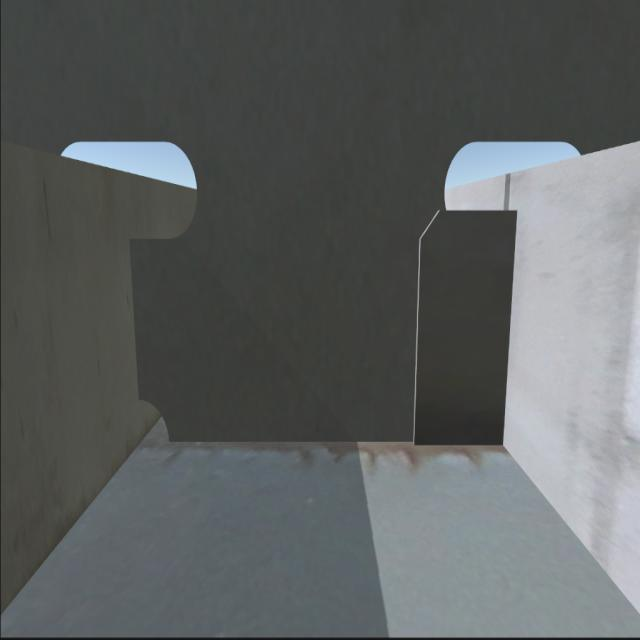fillet_hole: (134, 401, 172, 450)
fillet_yong_jeop_jang: (176, 436, 508, 452)
longi_yong_jeop_jang: (507, 218, 522, 449), (128, 247, 148, 402)
plate_CP03: (413, 202, 521, 442)
